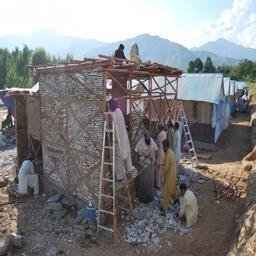no hat: (106, 97, 123, 116), (141, 130, 158, 145), (176, 180, 191, 196), (154, 122, 169, 136), (161, 142, 176, 155), (24, 152, 38, 165), (171, 120, 186, 131), (119, 42, 128, 54)
no vest: (114, 113, 132, 158), (164, 150, 181, 197), (16, 159, 36, 195), (183, 193, 202, 229), (141, 142, 157, 166), (173, 131, 184, 164), (158, 133, 166, 162), (115, 51, 129, 66)
